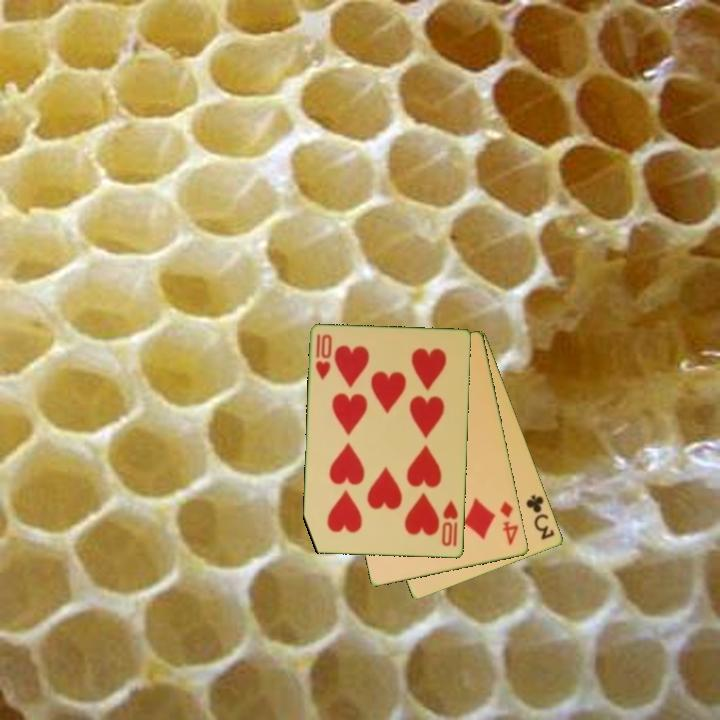10h: (312, 331, 335, 383), (438, 498, 461, 549)
3c: (523, 491, 558, 543)
4d: (497, 498, 522, 548)
